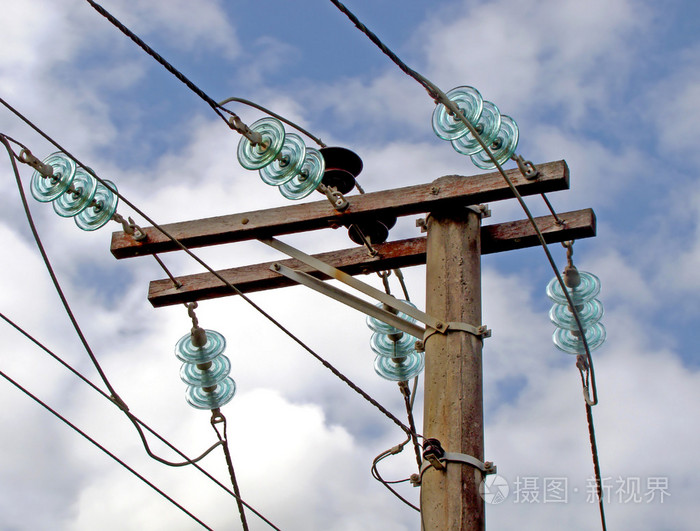insulator: (429, 85, 520, 169), (29, 149, 116, 233), (238, 114, 321, 201), (547, 270, 608, 355), (174, 331, 238, 410), (368, 300, 422, 382)
